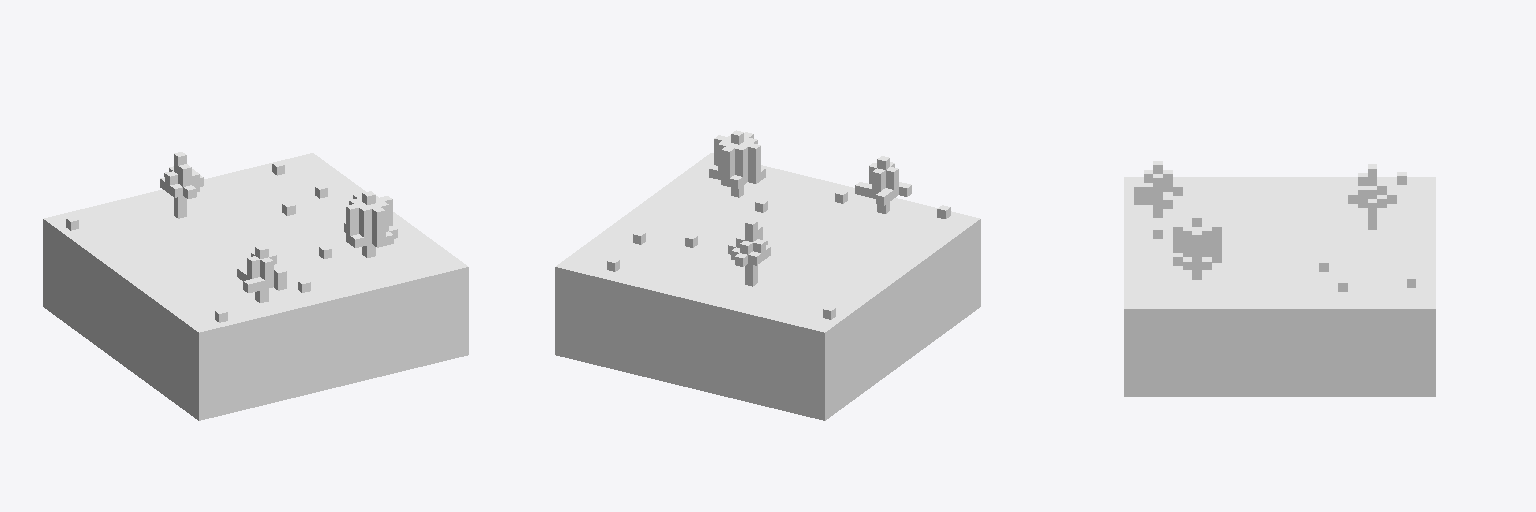
Rendered from Overworld_Land_18.obj.
3 views of the same model, side by side, from view 1: azimuth 30°, elevation 25°; view 2: azimuth 150°, elevation 25°; view 3: azimuth 270°, elevation 25° (orthographic).
Visible parts, largest first — view 1: object 1; view 2: object 1; view 3: object 1.
Boxes of the visible parts, <box> form: object 1: <box>43,152,468,420</box>; object 1: <box>555,130,980,420</box>; object 1: <box>1124,161,1435,396</box>.
Size of the model in its own units: 3.2 by 1.7 by 3.2.